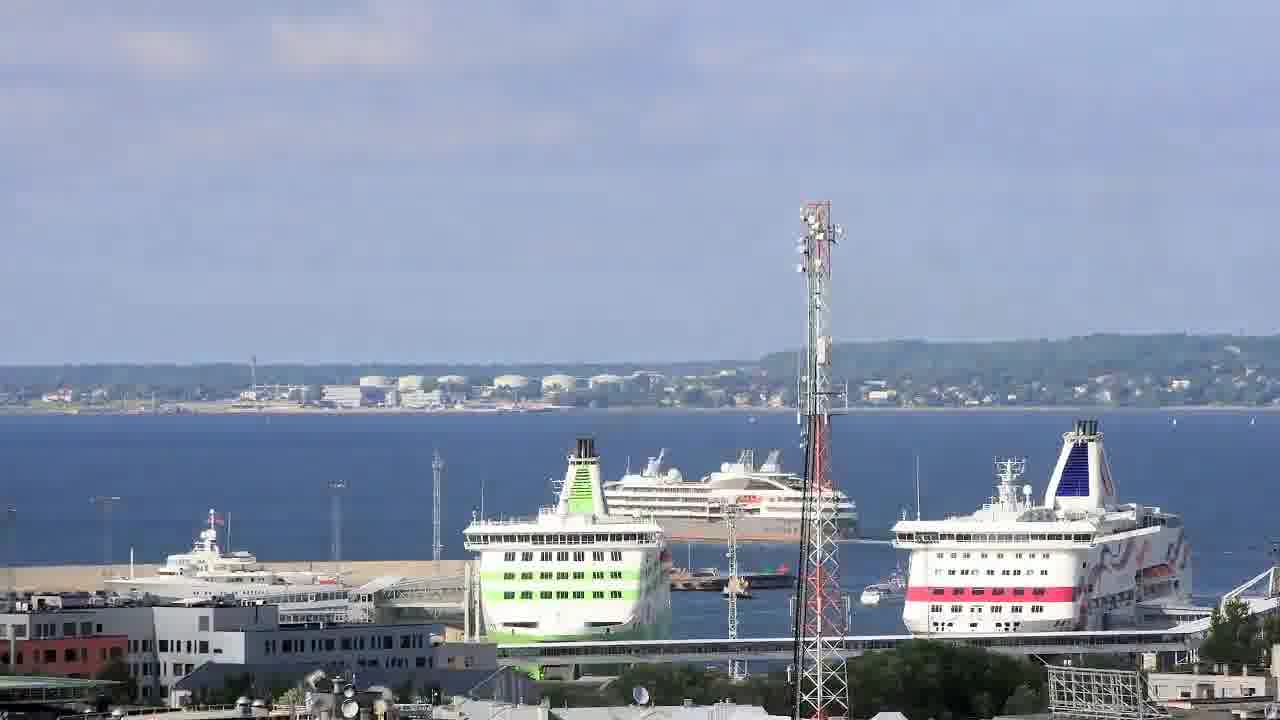type-0: (728, 546, 780, 610), (856, 565, 901, 614)
type-3: (868, 415, 1225, 638), (436, 434, 694, 670), (555, 444, 874, 543), (89, 507, 353, 612)
